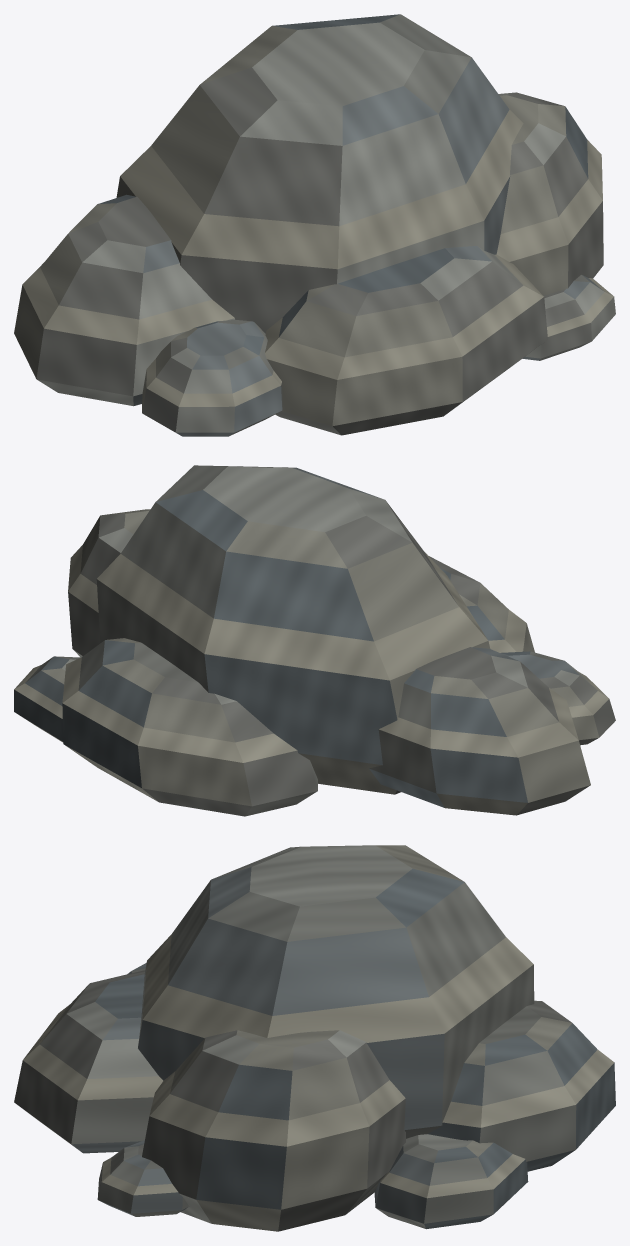
Rendered from intertidal-schist.glb.
3 renders of one model, top to bottom at view 1: azimuth 30°, elevation 25°; view 2: azimuth 150°, elevation 25°; view 3: azimuth 270°, elevation 25°, orthographic. The views are drawn at different scales.
Visible parts, largest first — view 1: Schist bedding; view 2: Schist bedding; view 3: Schist bedding.
Boxes of the visible parts, x1,y1,x2,y2 form: Schist bedding: (14, 14, 615, 436); Schist bedding: (14, 465, 615, 816); Schist bedding: (14, 845, 615, 1231).
Size of the model in its own units: 1.99 by 0.9159 by 1.75.
Materials: 1 (1 with a texture image).
